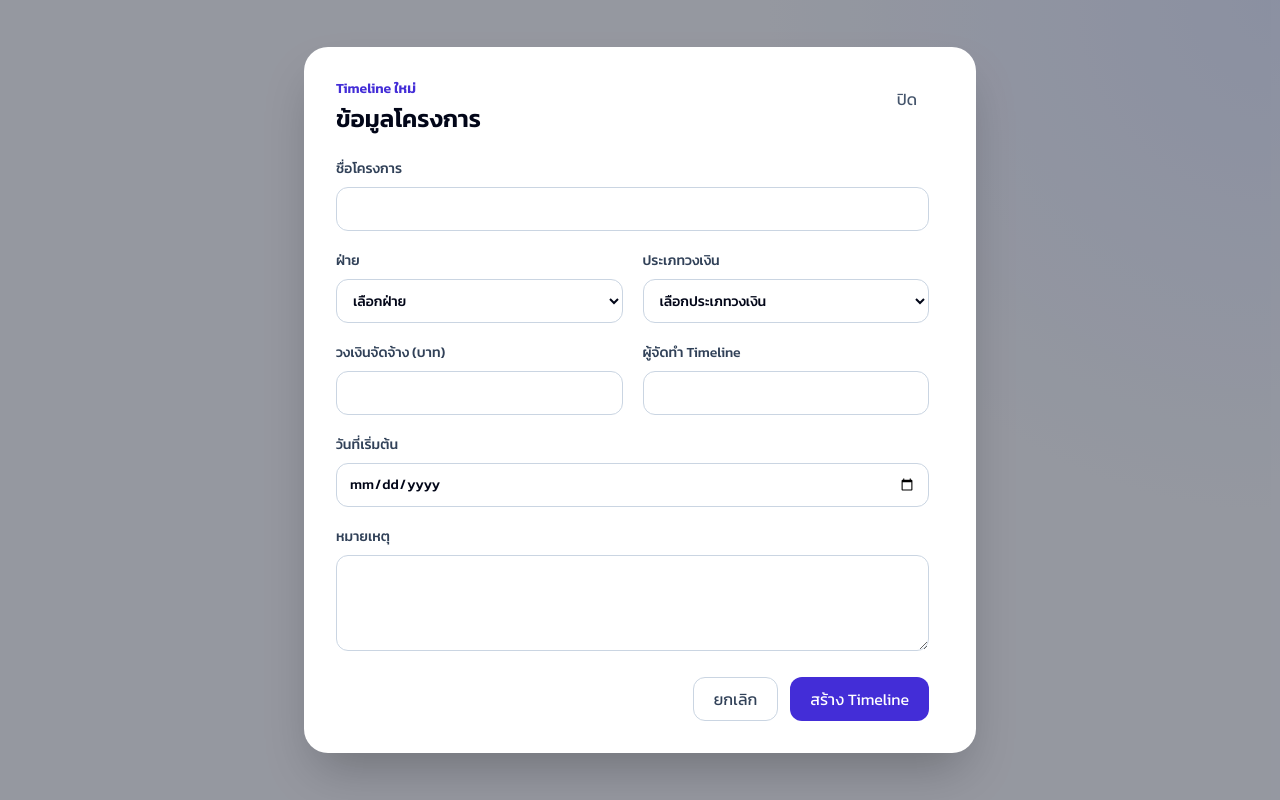
ProjectForm › blocks submission when category does not match the actual budget
Step 1. Type "จัดซื้อระบบ" into the field labelled "ชื่อโครงการ" → point(632, 209), box [336,187,929,231]
Step 2. Type "คุณสมชาย" into the field labelled "ผู้จัดทำ Timeline" → point(786, 393), box [642,371,929,415]
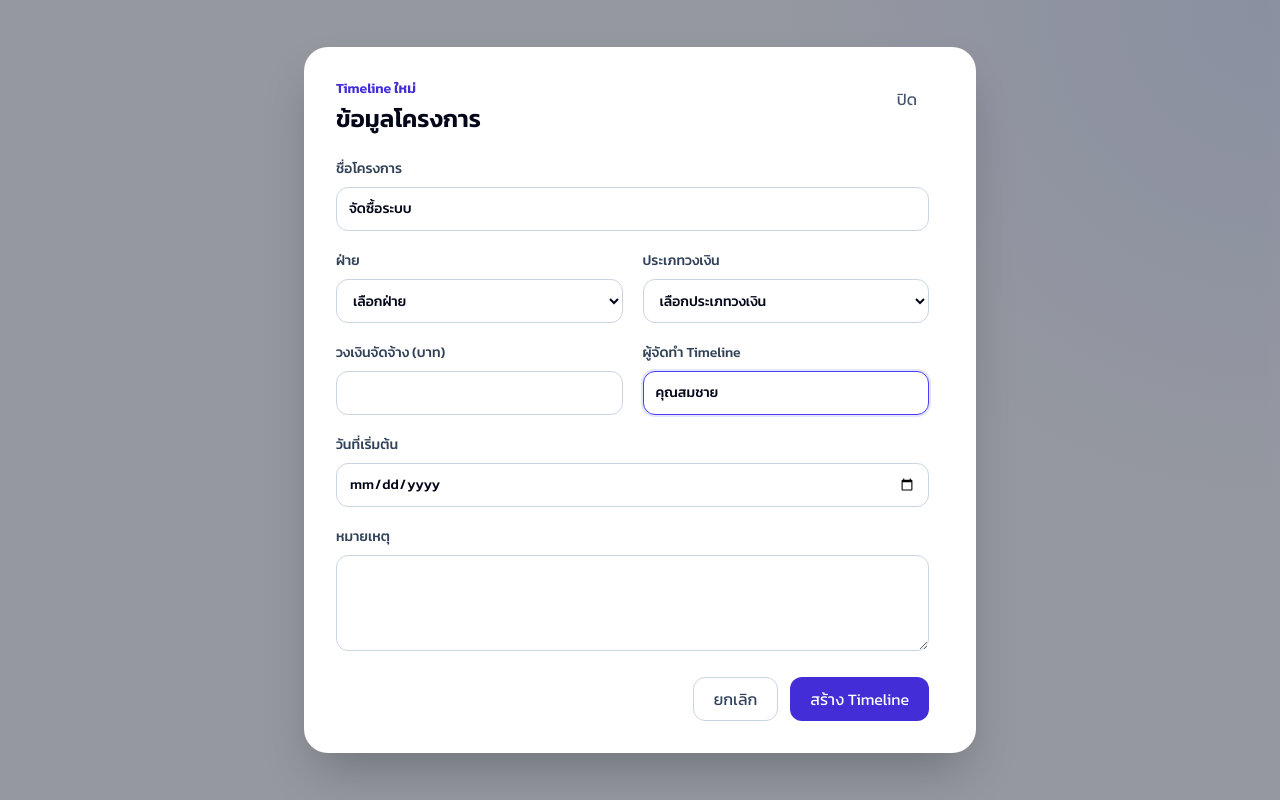
Step 3. Select "ฝ่ายส่งเสริมการจัดประชุมนานาชาติ" in the dropdown labelled "ฝ่าย" → point(479, 301), box [336,279,622,323]
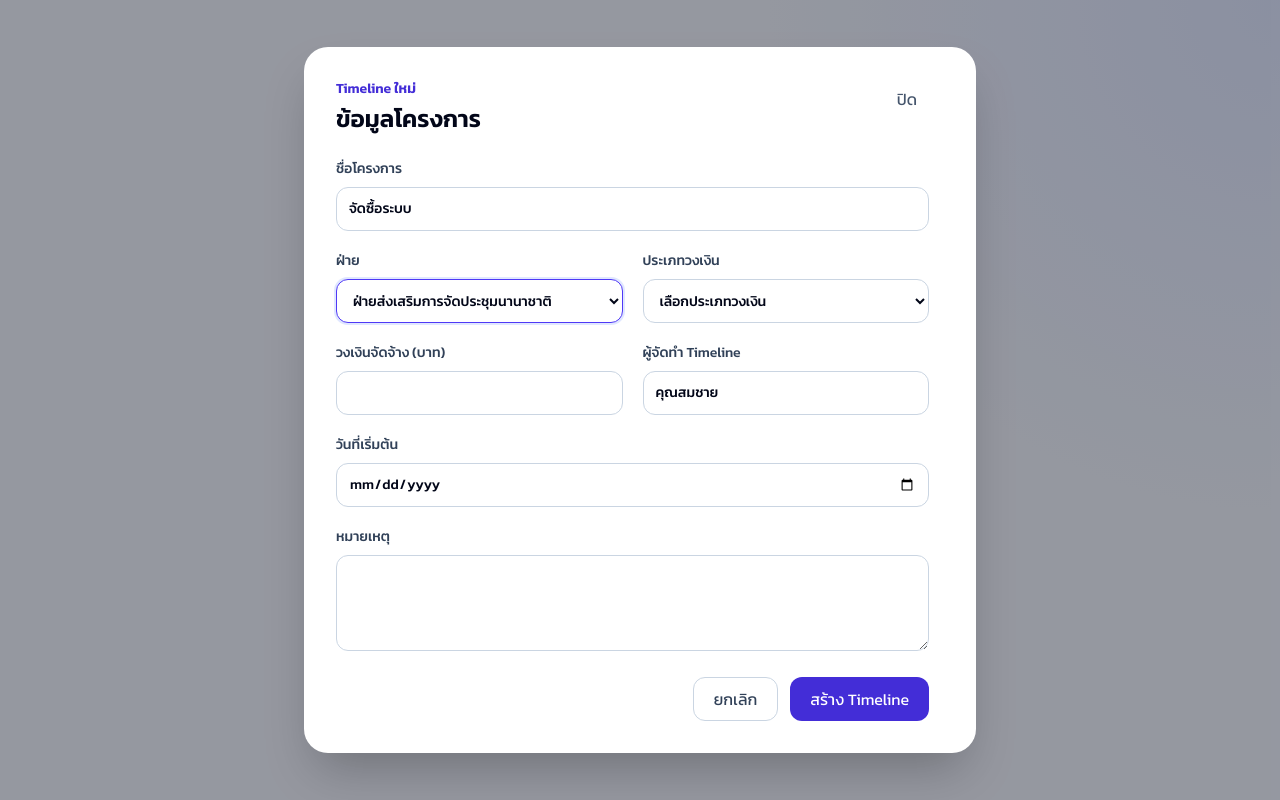
Step 4. Select "10,000,001–50,000,000 บาท" in the dropdown labelled "ประเภทวงเงิน" → point(786, 301), box [642,279,929,323]
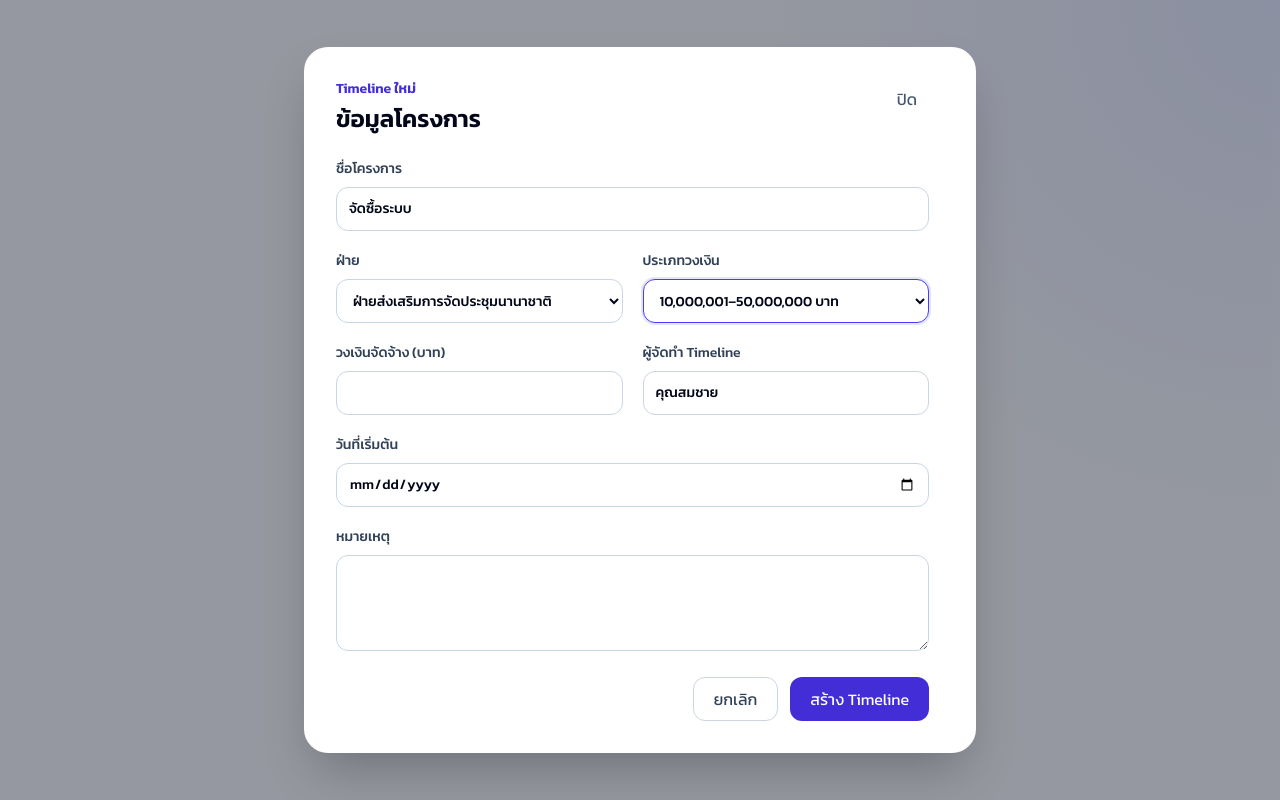
Step 5. Type "5000000" into the number field labelled "วงเงินจัดจ้าง (บาท)" → point(479, 393), box [336,371,622,415]
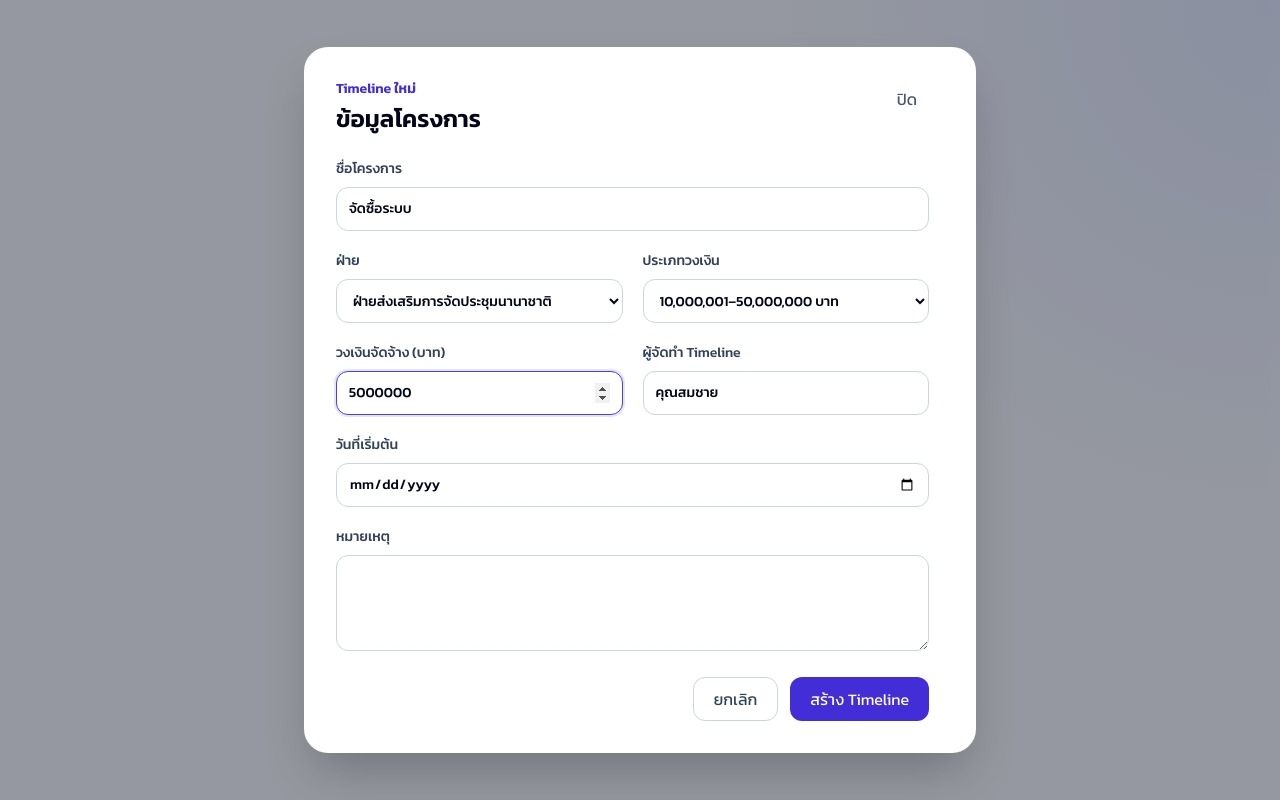
Step 6. Type "2026-07-06" into the date field labelled "วันที่เริ่มต้น" → point(632, 485), box [336,463,929,507]
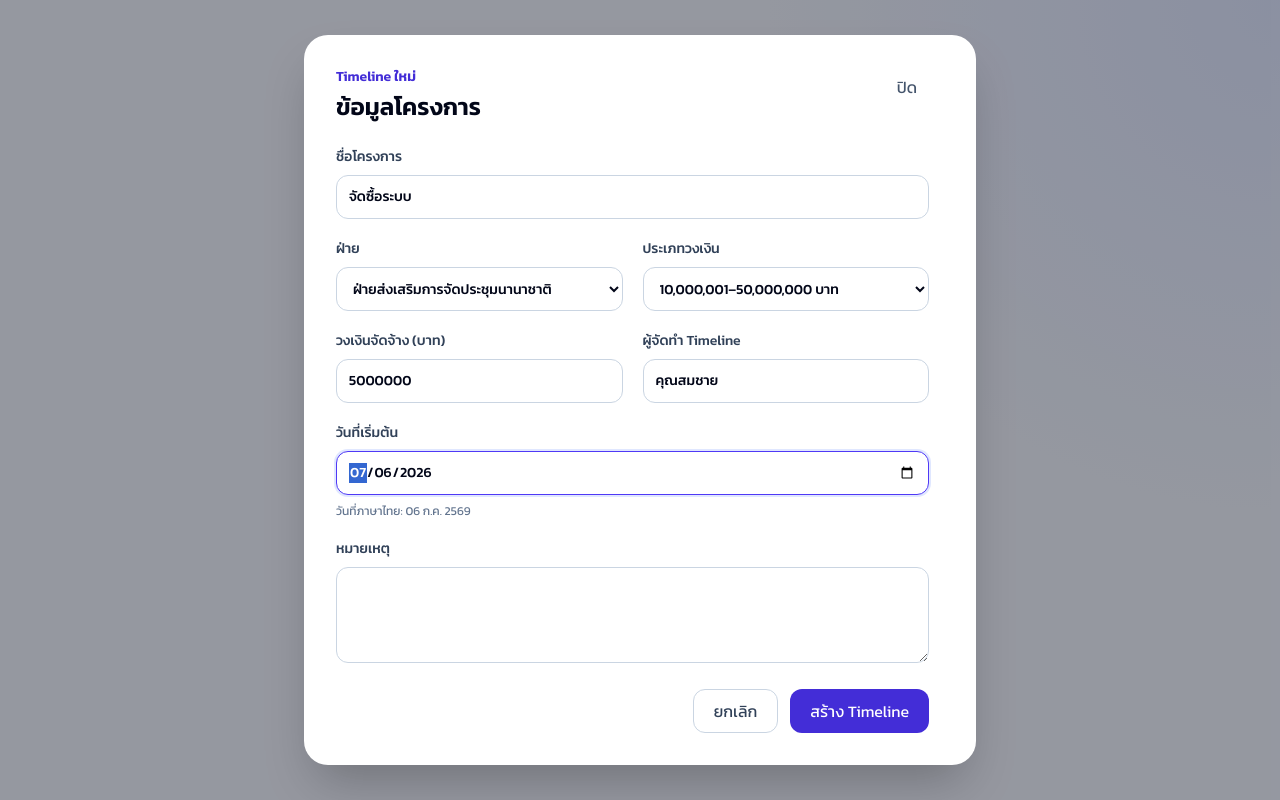
Step 7. Click the button "สร้าง Timeline" → point(860, 711), box [790,689,929,733]
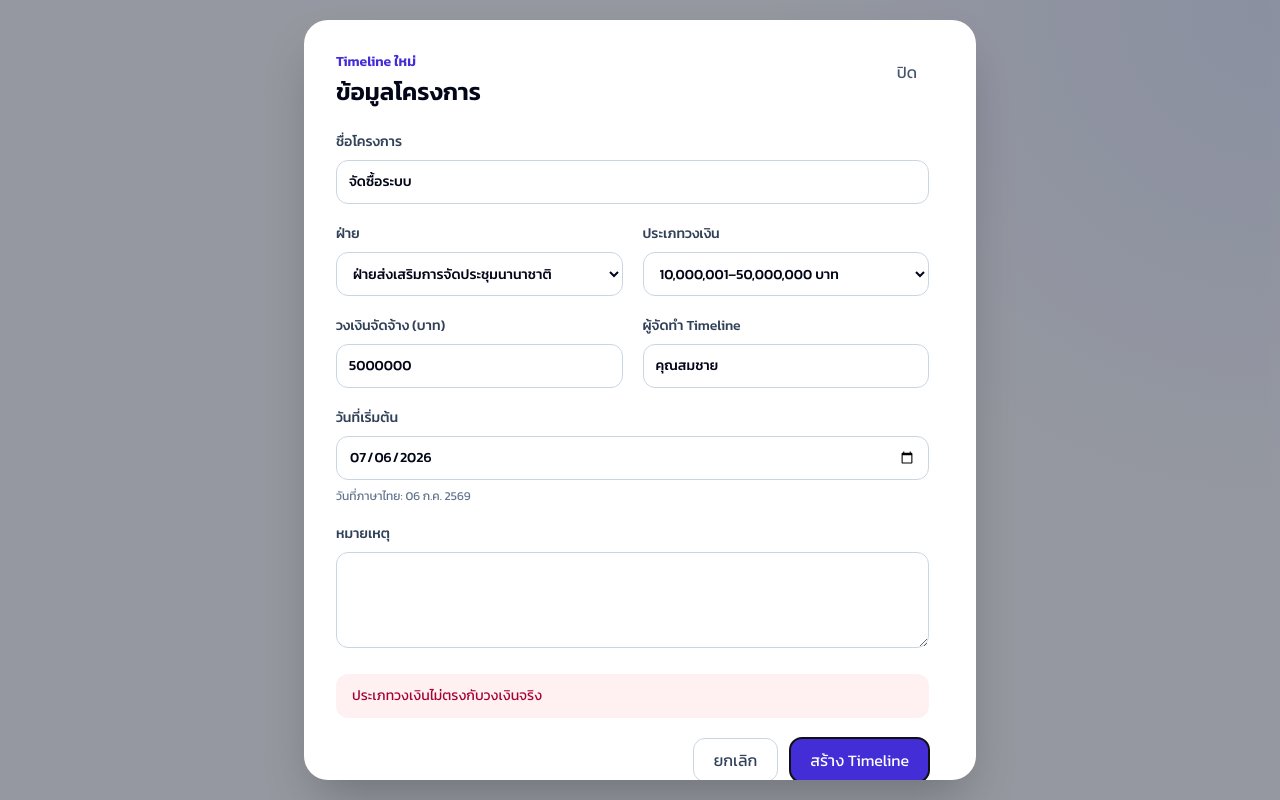
Expected: the message reads "ประเภทวงเงินไม่ตรงกับวงเงินจริง", [352,685,542,706]
